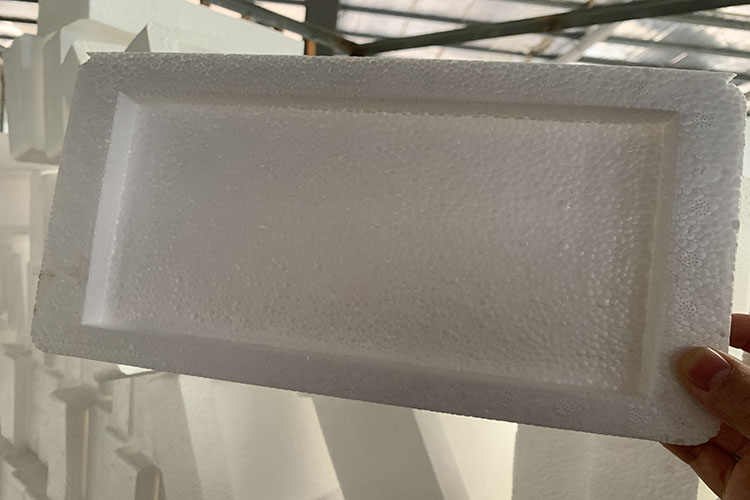泡沫箱: (33, 54, 742, 444)
